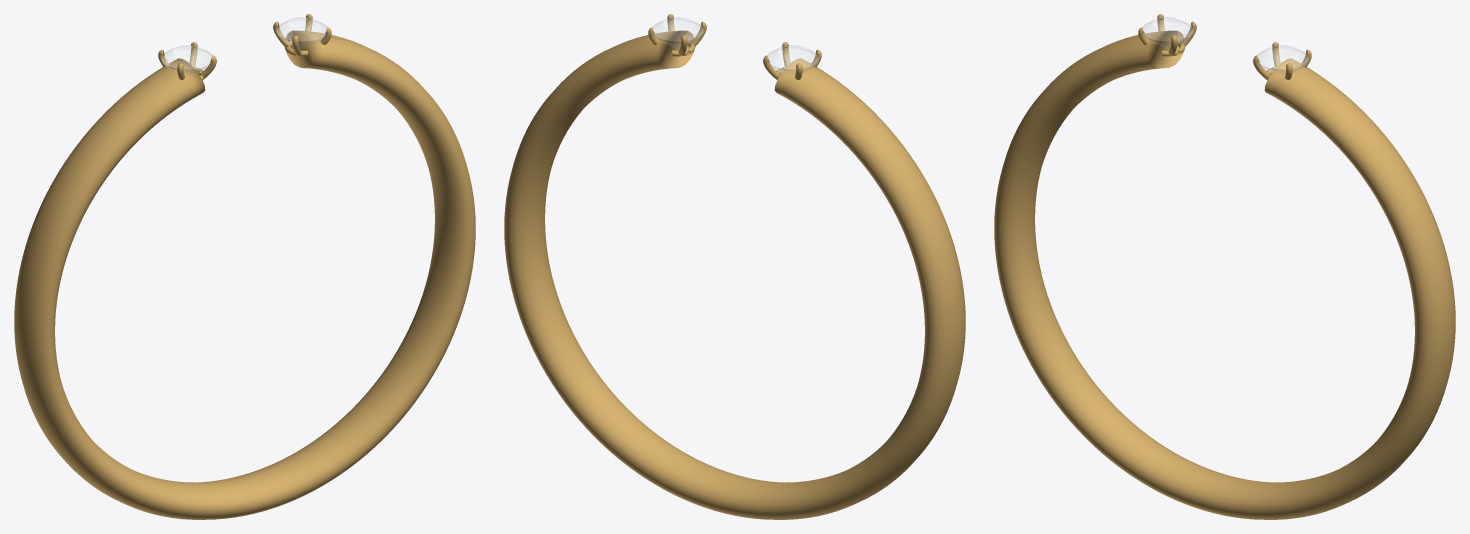
File: bands-open.glb
3 renders of one model, left to right at view 1: azimuth 30°, elevation 25°; view 2: azimuth 150°, elevation 25°; view 3: azimuth 330°, elevation 25°, orthographic.
Visible parts, largest first — view 1: Band, Gem.001, Gem; view 2: Band, Gem.001, Gem; view 3: Band, Gem, Gem.001.
Boxes of the visible parts, x1,y1,x2,y2 form: Band: [14, 30, 475, 519]; Gem.001: [276, 17, 327, 49]; Gem: [161, 45, 212, 73]; Band: [504, 30, 965, 519]; Gem.001: [652, 17, 703, 49]; Gem: [767, 45, 818, 73]; Band: [994, 30, 1455, 519]; Gem: [1142, 17, 1193, 49]; Gem.001: [1257, 45, 1308, 73].
Bounding box in the file's own units: 19.6 × 19.69 × 2.1.
